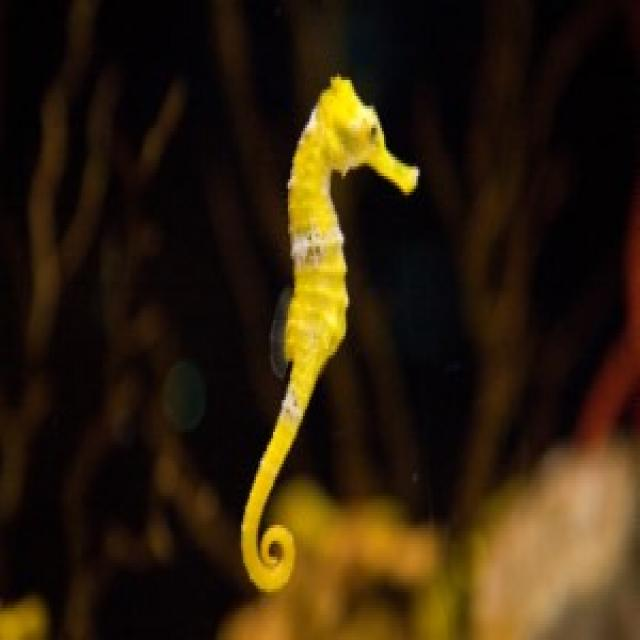Seahorse: (232, 78, 426, 624)
